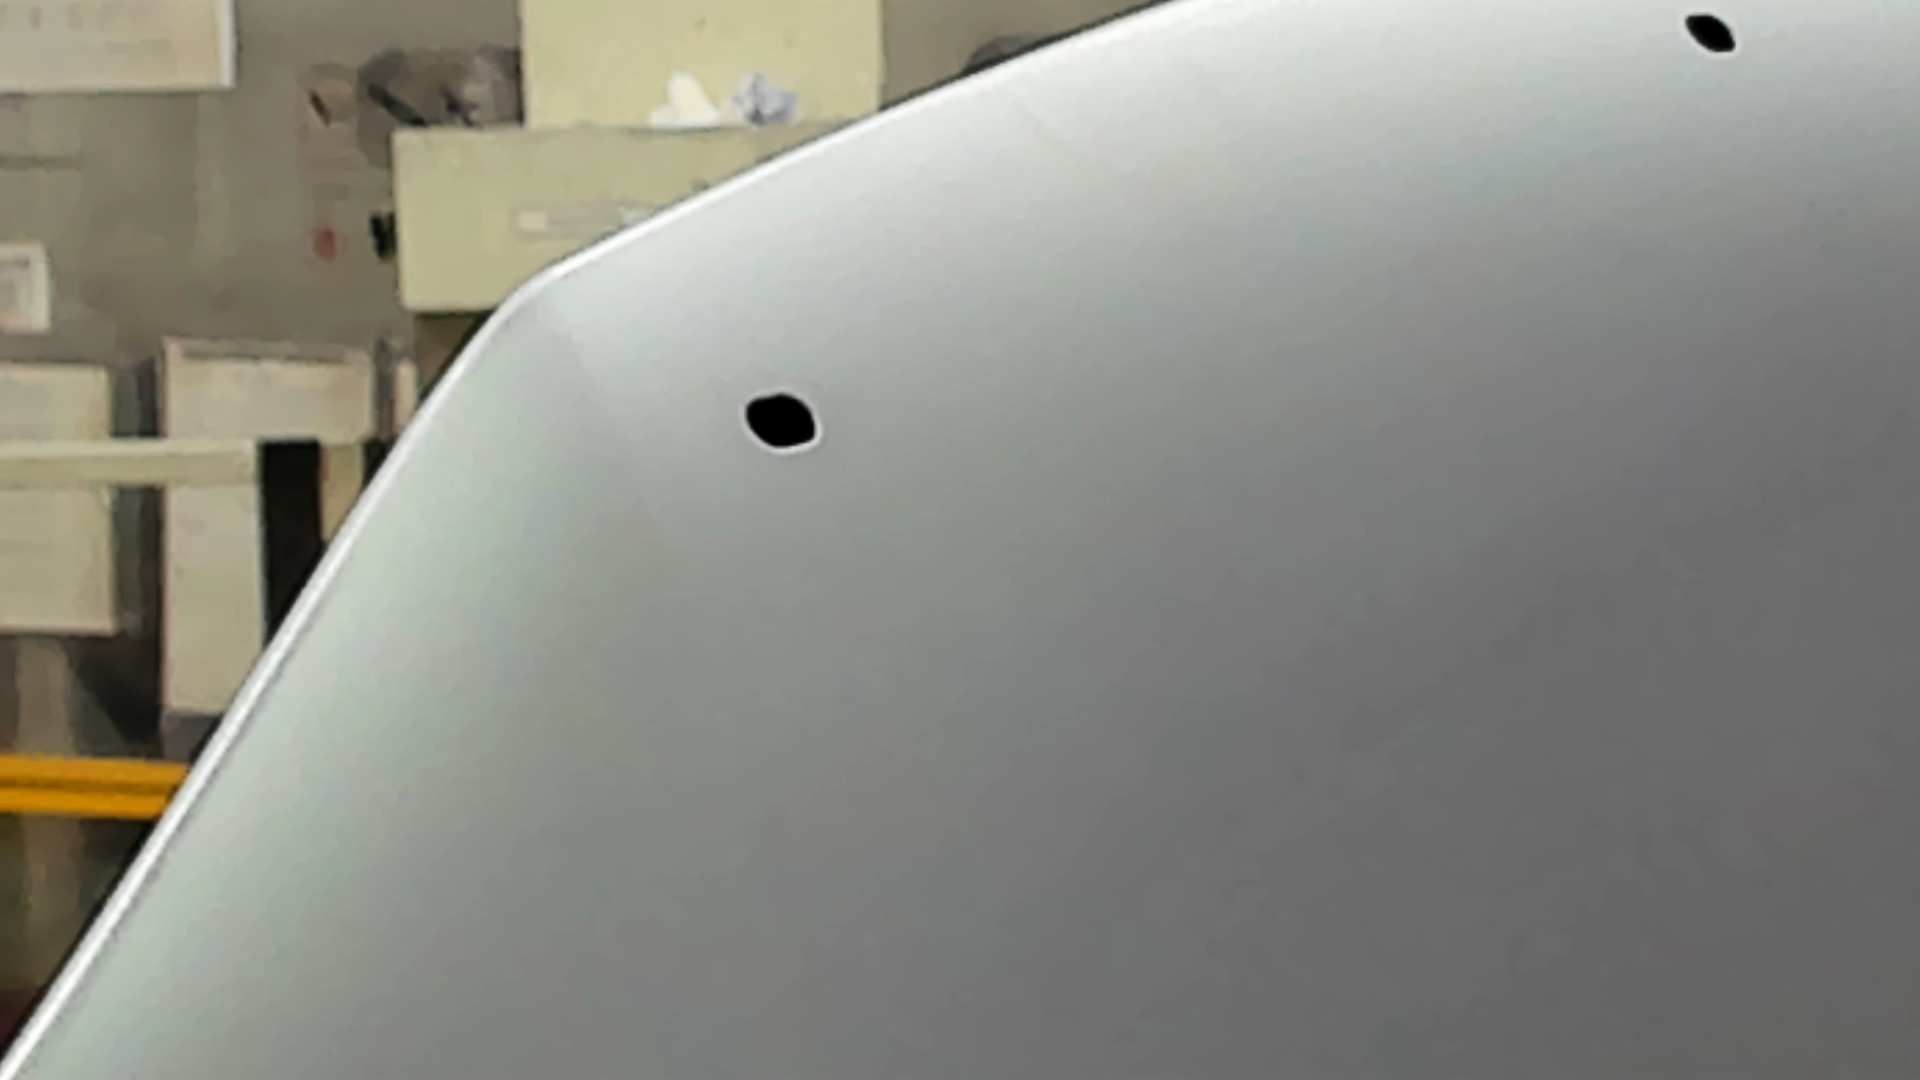amorfo: (742, 388, 828, 450), (1679, 9, 1738, 55)
